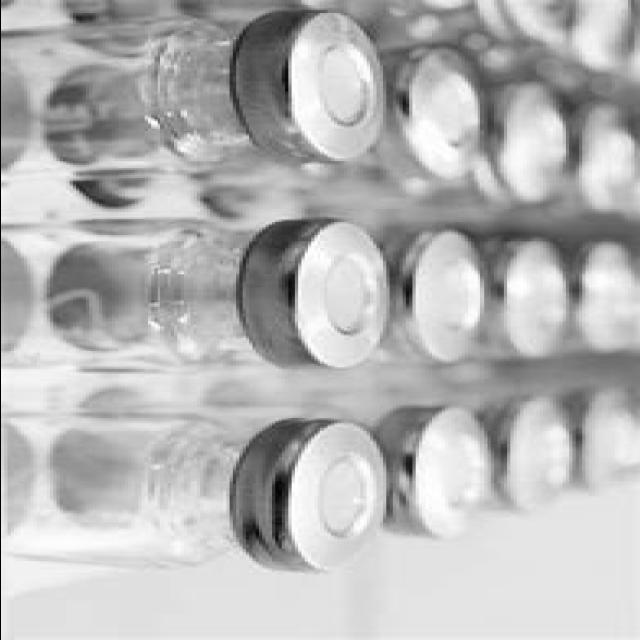vial: (276, 16, 376, 188), (272, 426, 377, 572), (271, 221, 365, 380), (389, 236, 480, 370), (396, 408, 487, 538), (404, 48, 482, 176), (486, 81, 570, 199), (487, 400, 566, 510), (564, 250, 640, 360), (500, 230, 558, 362), (575, 104, 640, 203), (584, 386, 638, 504)
